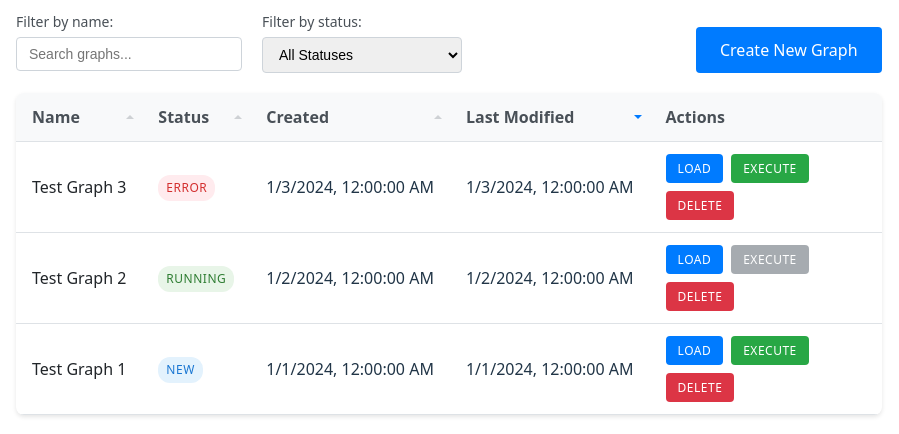
Test: GraphList › should filter graphs by status
Note: Click status filter
Select "Running" in the dropdown labelled "Filter by status:". click: [362, 55]
box: 262,37 -> 462,73
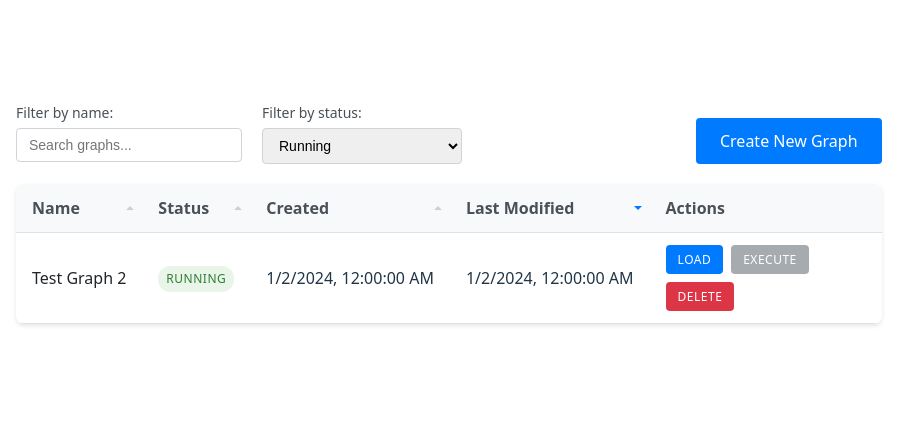
Check: the text "Test Graph 2" is shown, box 16,232 -> 142,324
Check: the text "Test Graph 1" is gone
Check: the text "Test Graph 3" is gone
